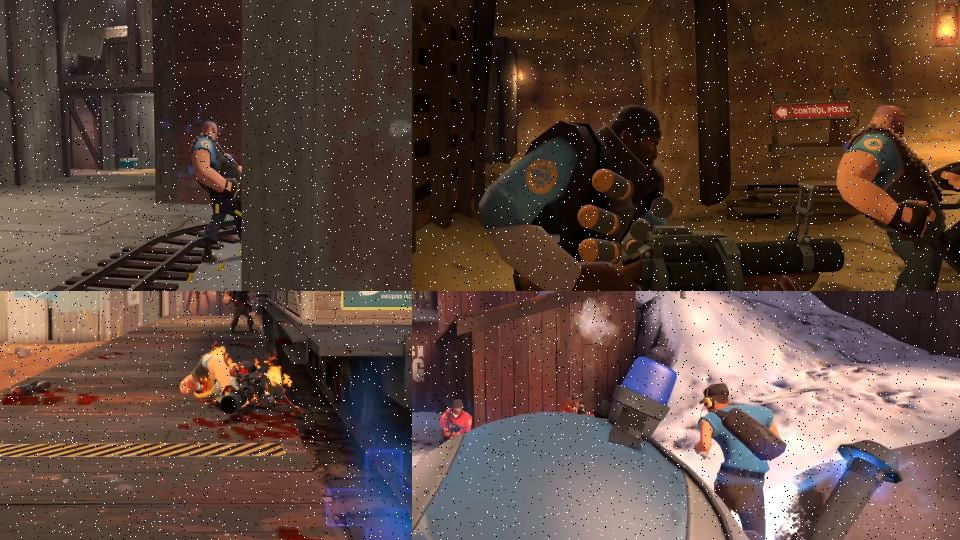Enemy: (477, 106, 844, 291), (836, 102, 960, 291), (692, 381, 789, 540), (178, 345, 305, 418), (189, 120, 242, 265), (439, 398, 474, 449), (221, 291, 259, 334), (559, 392, 598, 417)
